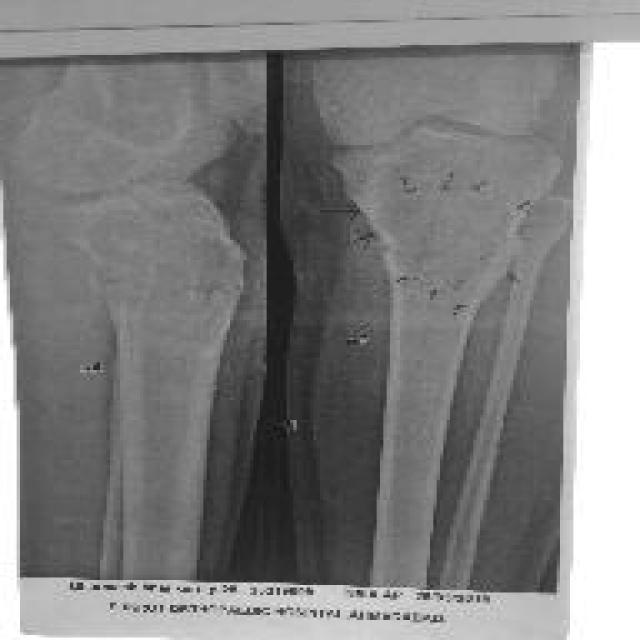bone-cancer: (118, 217, 260, 357), (371, 185, 515, 312)
